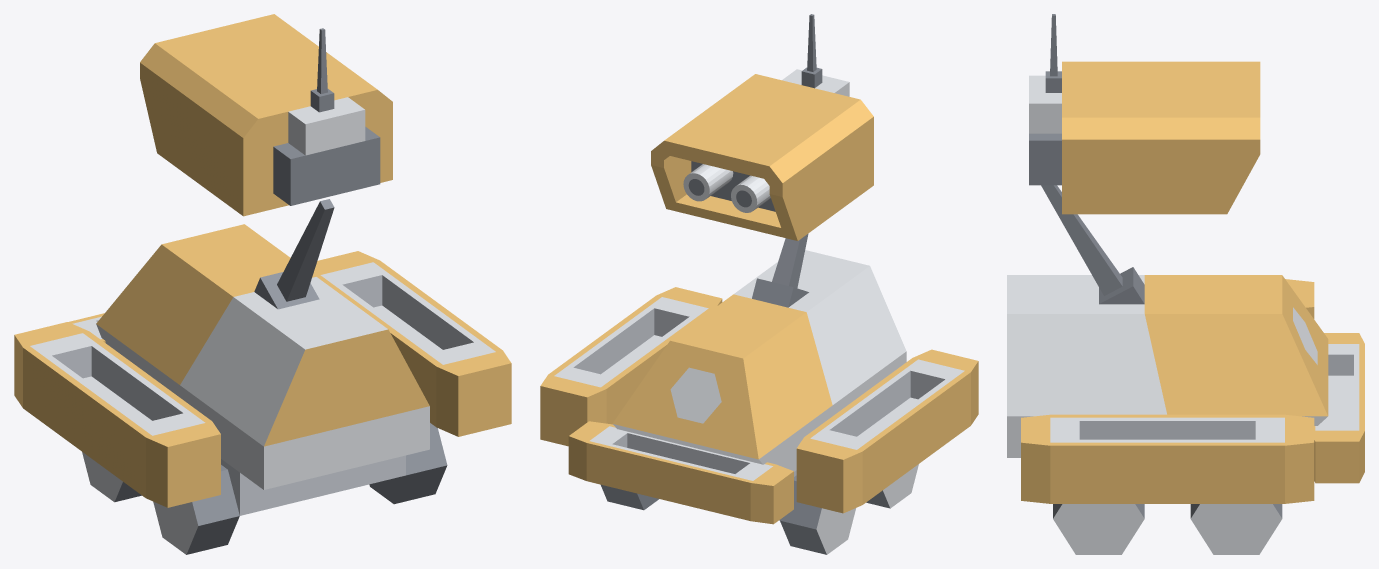
The model's file is rover_combat.glb.
3 renders of one model, left to right at view 1: azimuth 30°, elevation 25°; view 2: azimuth 150°, elevation 25°; view 3: azimuth 270°, elevation 25°, orthographic. The views are drawn at different scales.
Parts seen in each view (by area): view 1: rover_combat; view 2: rover_combat; view 3: rover_combat.
Boxes of the visible parts, bbox=[...] form: rover_combat: bbox=[14, 14, 511, 554]; rover_combat: bbox=[540, 14, 978, 554]; rover_combat: bbox=[1007, 14, 1364, 554].
Size of the model in its own units: 0.43 by 0.5797 by 0.39.
